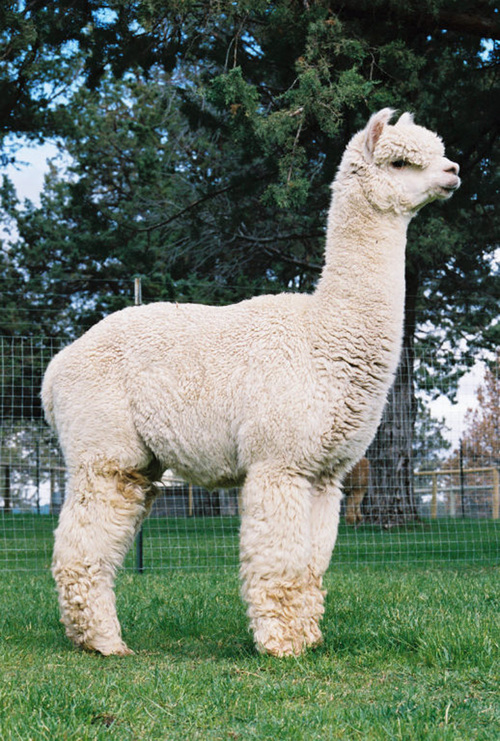alpaca: (39, 105, 459, 661)
